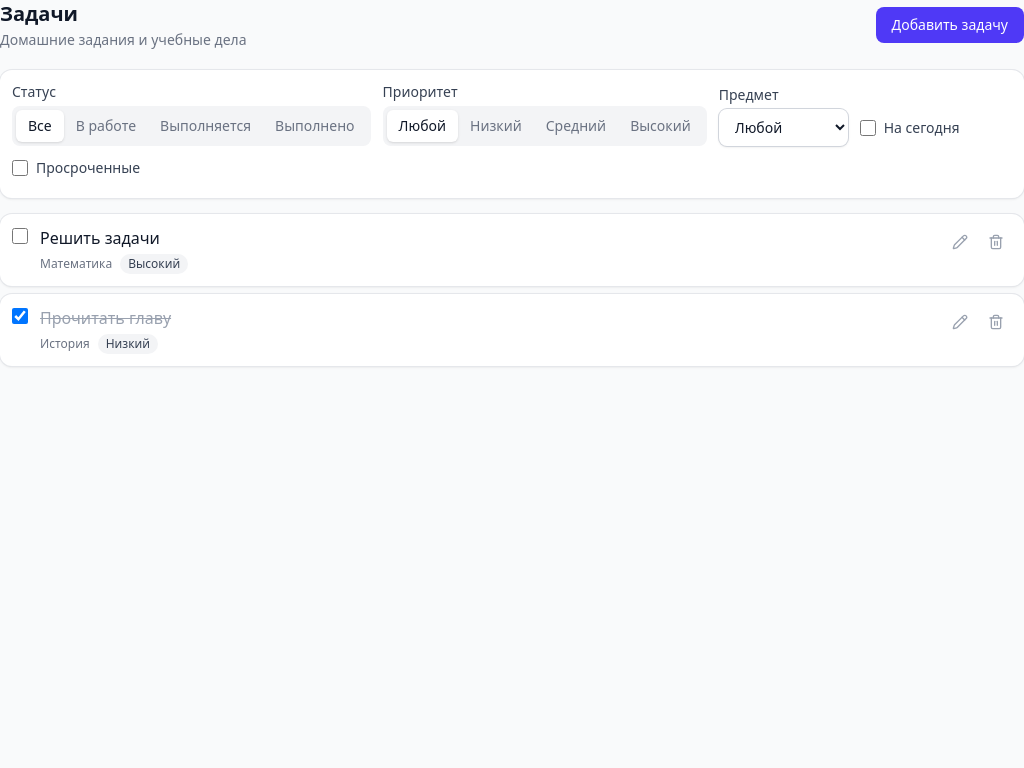
it: TasksPage › adds a task
Click the button "Добавить задачу" at x=950, y=25, box [876, 7, 1023, 43]
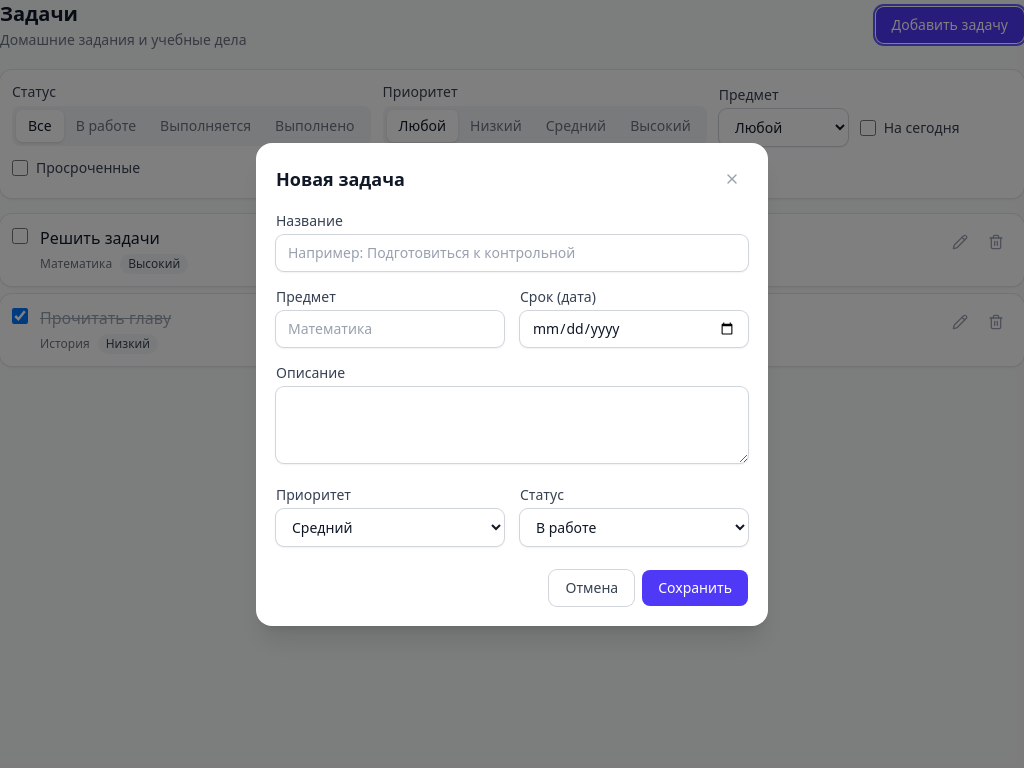
Type "Написать сочинение" into the field labelled "Название" at x=512, y=252, box [276, 234, 748, 270]
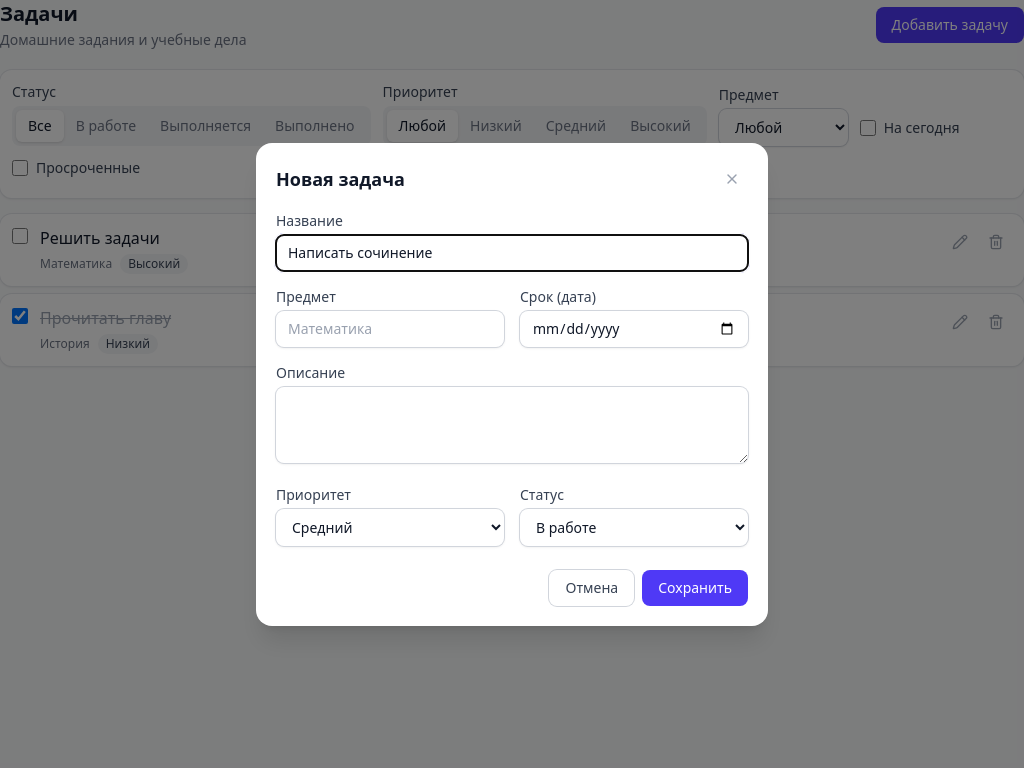
Select "Высокий" in the dropdown labelled "Приоритет" at x=390, y=527, box [276, 508, 504, 546]
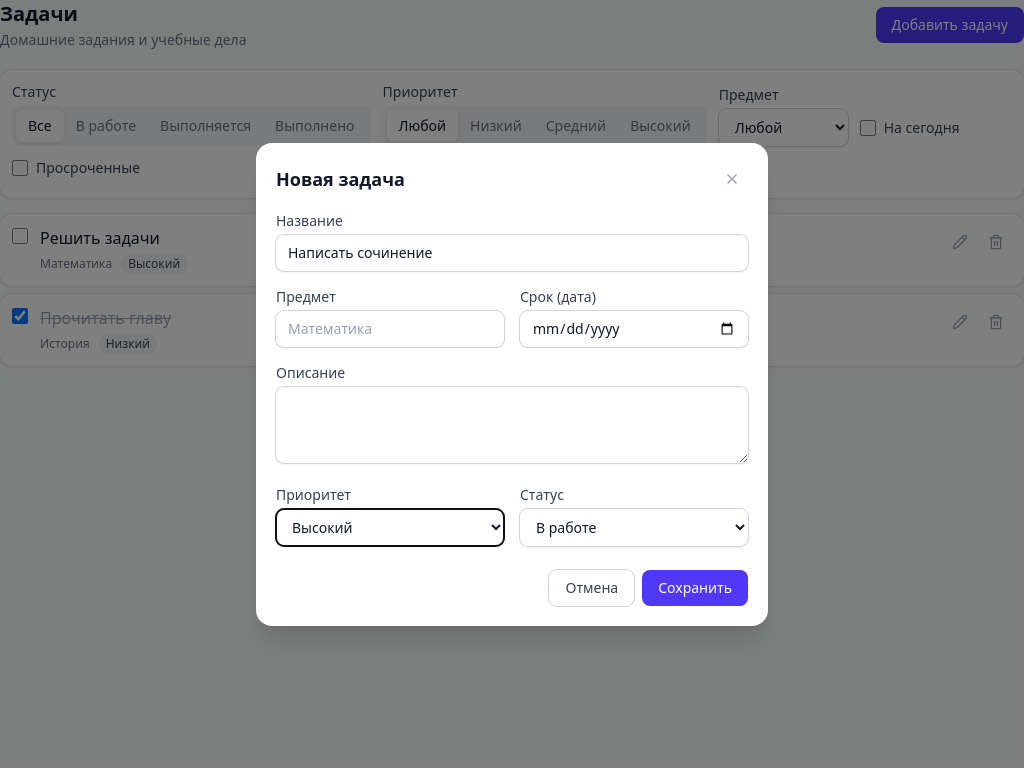
Click the button "Сохранить" at x=695, y=588, box [642, 570, 748, 606]
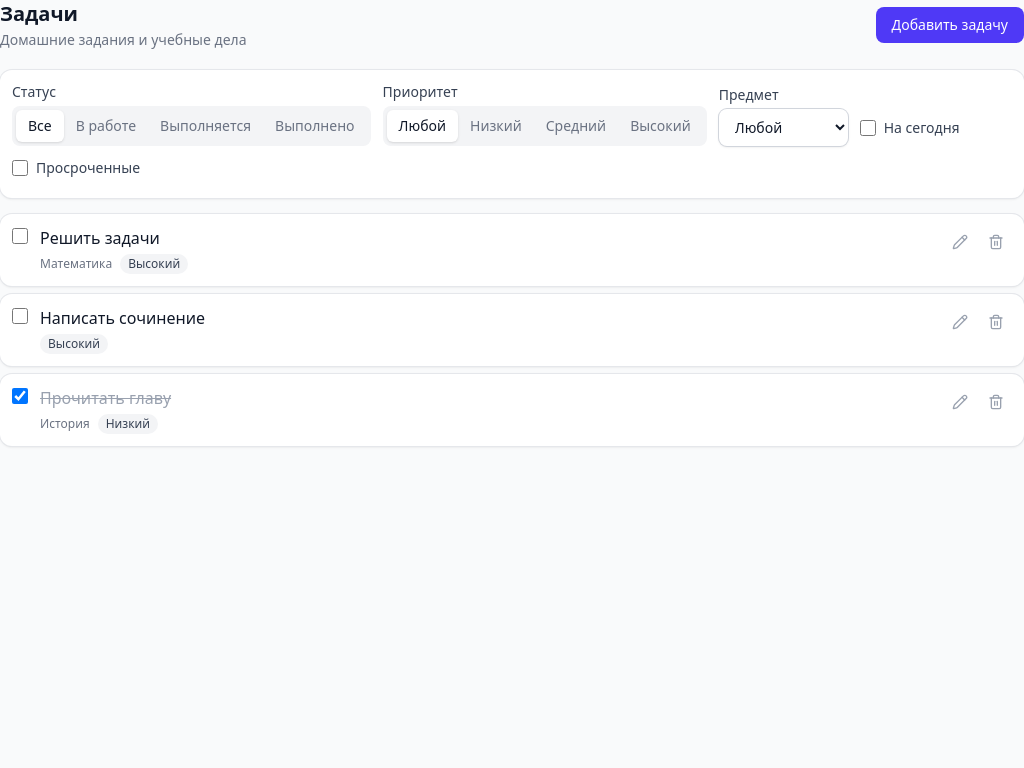
Result: the text "Написать сочинение" is shown at [40, 307, 205, 329]
